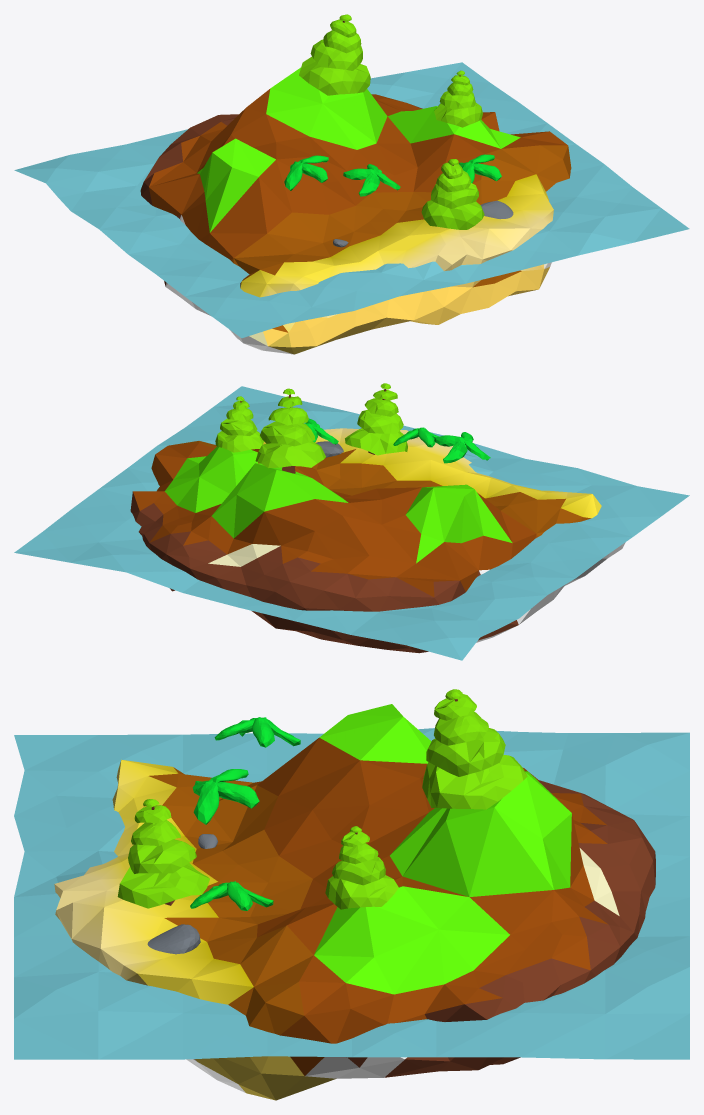
Rendered from ISLAND2.glb.
3 renders of one model, top to bottom at view 1: azimuth 30°, elevation 25°; view 2: azimuth 150°, elevation 25°; view 3: azimuth 270°, elevation 25°, orthographic. The views are drawn at different scales.
Visible parts, largest first — view 1: Icosphere, Plane, Icosphere.006, Icosphere.005, Icosphere.021; view 2: Icosphere, Plane, Icosphere.006, Icosphere.005, Icosphere.021; view 3: Icosphere, Plane, Icosphere.006, Icosphere.005, Icosphere.021, Icosphere.015, Icosphere.002, Icosphere.001.
Part boxes in pixels (x1,y1,x2,y2): Icosphere: (140,67,571,354); Plane: (14,62,689,338); Icosphere.006: (299,14,370,95); Icosphere.005: (421,159,484,229); Icosphere.021: (434,70,482,127); Icosphere: (130,428,625,653); Plane: (14,386,689,660); Icosphere.006: (255,388,325,473); Icosphere.005: (345,383,407,455); Icosphere.021: (215,396,263,452); Icosphere: (54,704,655,1100); Plane: (14,728,689,1059); Icosphere.006: (422,689,527,809); Icosphere.005: (117,799,209,908); Icosphere.021: (325,826,398,909); Icosphere.015: (147,924,200,954); Icosphere.002: (193,781,219,824); Icosphere.001: (216,782,259,808).
Bounding box in the file's own units: 31.47 × 14.91 × 27.68.
